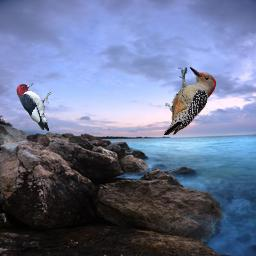Woodpecker: (164, 67, 216, 135), (16, 83, 53, 131)
